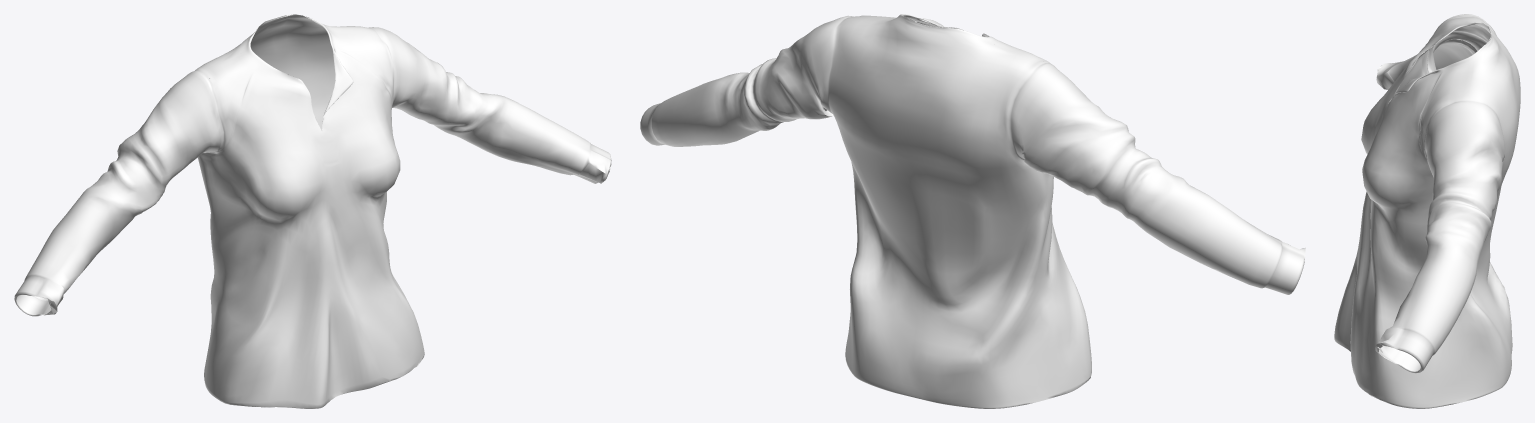
The model's file is Longsleeve.glb.
3 views of the same model, side by side, from view 1: azimuth 30°, elevation 25°; view 2: azimuth 150°, elevation 25°; view 3: azimuth 270°, elevation 25° (orthographic). The views are drawn at different scales.
Parts seen in each view (by area): view 1: Newport_Shirt_10879.004; view 2: Newport_Shirt_10879.004; view 3: Newport_Shirt_10879.004.
Part boxes in pixels (left/top/right/bottom): Newport_Shirt_10879.004: left=14, top=14, right=611, bottom=408; Newport_Shirt_10879.004: left=640, top=14, right=1305, bottom=408; Newport_Shirt_10879.004: left=1334, top=14, right=1520, bottom=408.
Bounding box in the file's own units: 21.69 × 11.51 × 5.95.
1 material, 1 textured.
